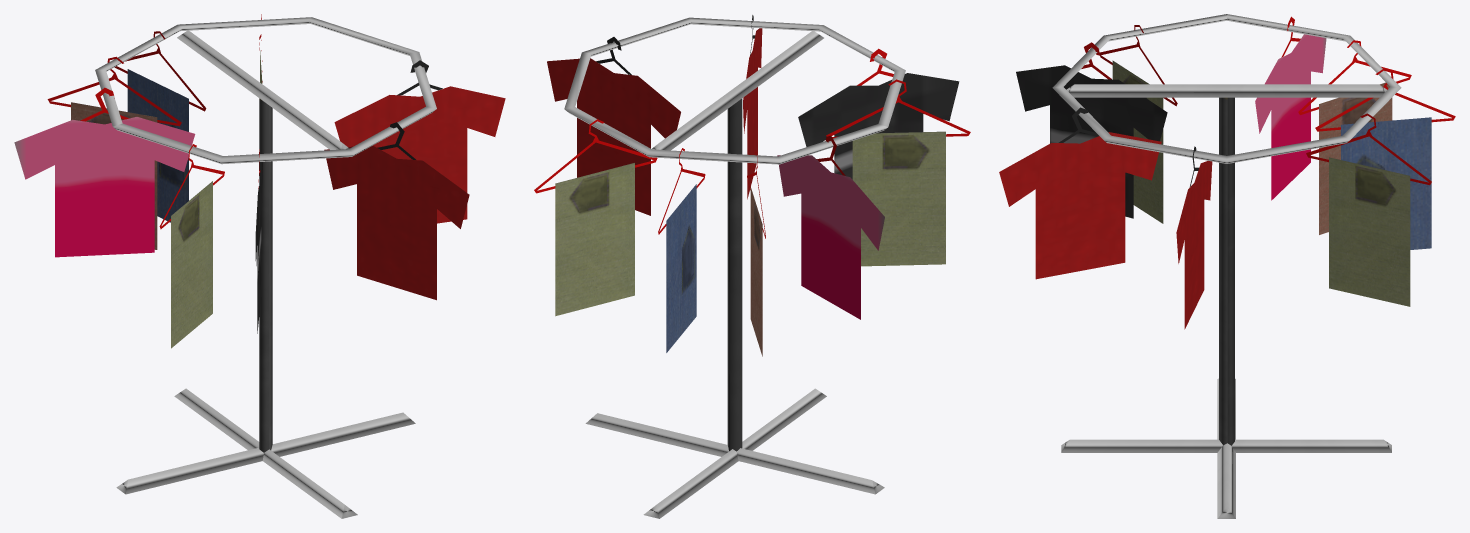
Rendered from Clothes_CircleRack_TypeA.fbx.
3 views of the same model, side by side, from view 1: azimuth 30°, elevation 25°; view 2: azimuth 150°, elevation 25°; view 3: azimuth 270°, elevation 25° (orthographic).
Parts seen in each view (by area): view 1: Clothes_CircleRack_TypeA; view 2: Clothes_CircleRack_TypeA; view 3: Clothes_CircleRack_TypeA.
Boxes of the visible parts, bbox=[...] form: Clothes_CircleRack_TypeA: bbox=[14, 14, 505, 518]; Clothes_CircleRack_TypeA: bbox=[534, 15, 970, 518]; Clothes_CircleRack_TypeA: bbox=[999, 14, 1455, 518].
Size of the model in its own units: 193 by 167 by 186.
